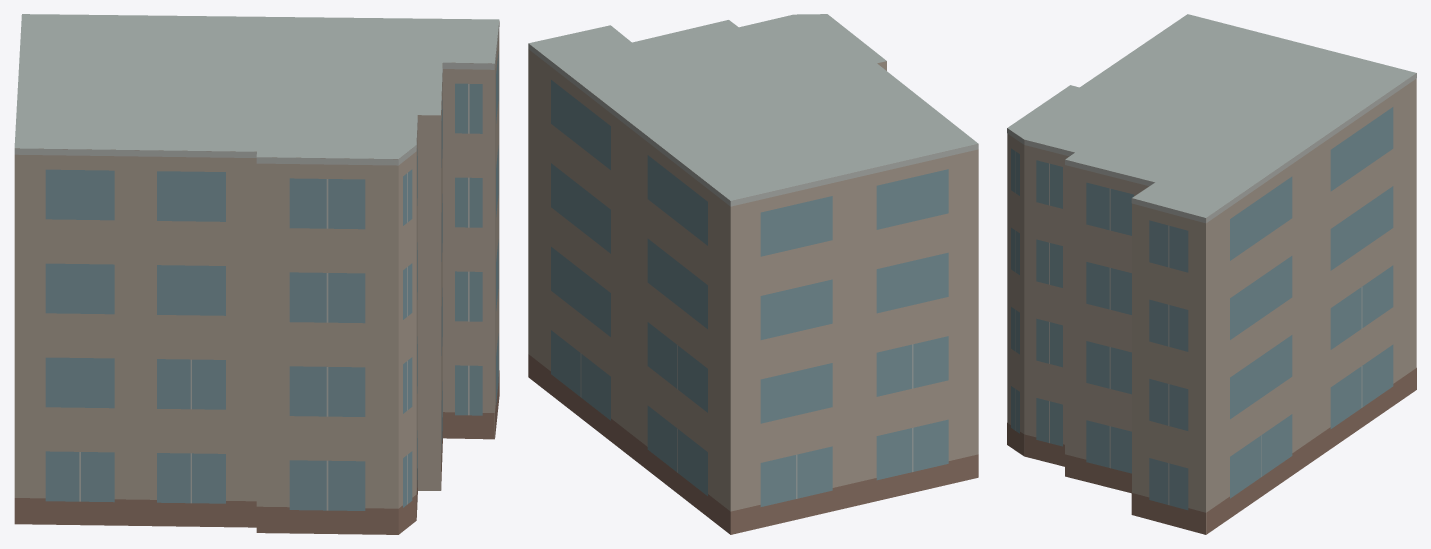
Rendered from survey-upis-32483140.glb.
3 renders of one model, left to right at view 1: azimuth 30°, elevation 25°; view 2: azimuth 150°, elevation 25°; view 3: azimuth 270°, elevation 25°, orthographic. The views are drawn at different scales.
Visible parts, largest first — view 1: survey-upis-32483140.tmp; view 2: survey-upis-32483140.tmp; view 3: survey-upis-32483140.tmp.
Part boxes in pixels (<box>): survey-upis-32483140.tmp: <box>14,14,499,534</box>; survey-upis-32483140.tmp: <box>528,14,978,534</box>; survey-upis-32483140.tmp: <box>1007,14,1416,534</box>.
Size of the model in its own units: 19.84 by 14.36 by 16.83.
